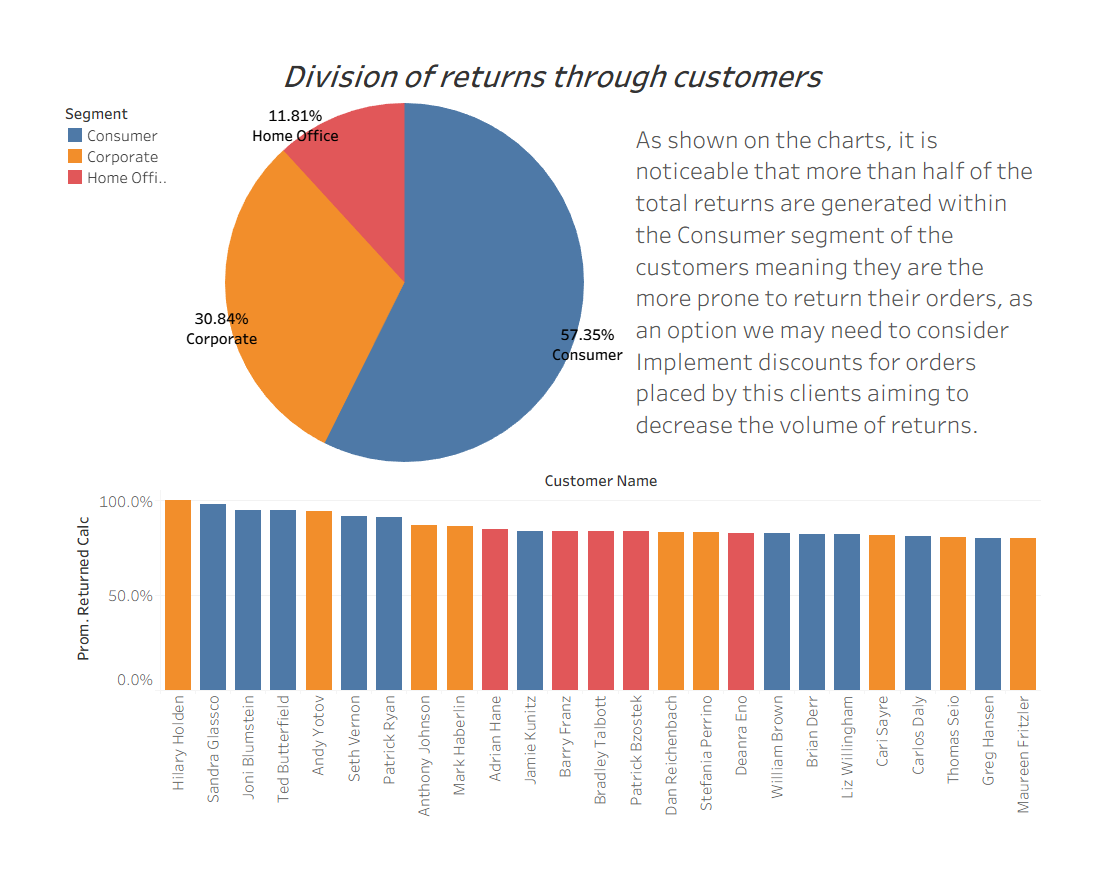

The dashboard page shown, as its layout file describes it:
{"tool":"tableau","page":{"name":"Division of returns through customers","canvas":[1000,800],"ordinal":1},"visuals":[{"type":"title","box":[8,8,984,49]},{"type":"legend","title":"Division of returns through customer segments","param":"[federated.17zflwy08zfmfp17b5a221czl0fl].[none:Segment:nk]","box":[8,57,120,367.5]},{"type":"worksheet","title":"Division of returns through customer segments","mark":"Pie","box":[128,57,447,367.5]},{"type":"text","box":[575,57,417,367.5]},{"type":"worksheet","title":"Returns by customer","mark":"Automatic","rows":["Calculation_1611162793528987648"],"cols":["Customer Name"],"box":[8,424.5,984,367.5]}]}

Visuals, with their boxes in screenshot pixels (x1, y1, x2, y2), scaled from the page's 1000x800 canvas onto the 1117x887 screenshot:
title: 9/9/1108/63
"Division of returns through customer segments" legend: 9/63/143/471
"Division of returns through customer segments" worksheet (Pie marks): 143/63/642/471
text: 642/63/1108/471
"Returns by customer" worksheet: 9/471/1108/878
